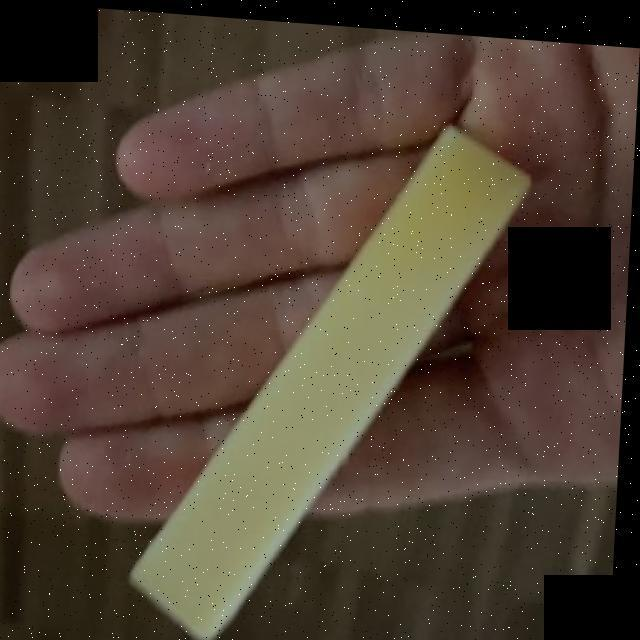cheese: (126, 111, 535, 636)
